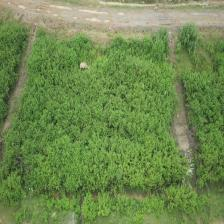vegetation: (4, 36, 188, 198)
